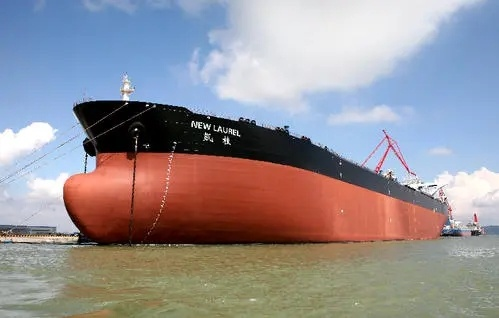Cargoship: (52, 65, 450, 251)
